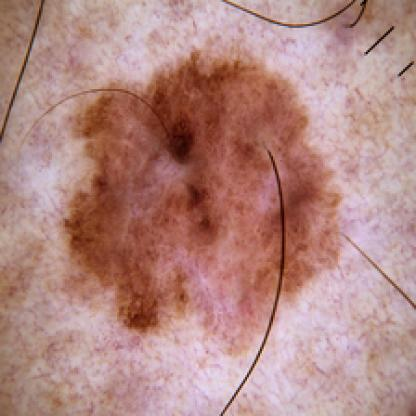Skin_Cancer-Malignant: (57, 43, 345, 356)
